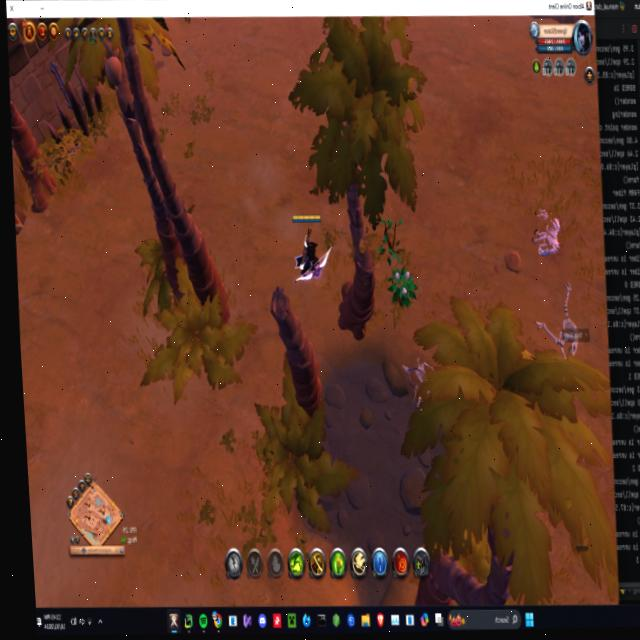hide: (387, 263, 418, 310)
red: (289, 211, 329, 284)
